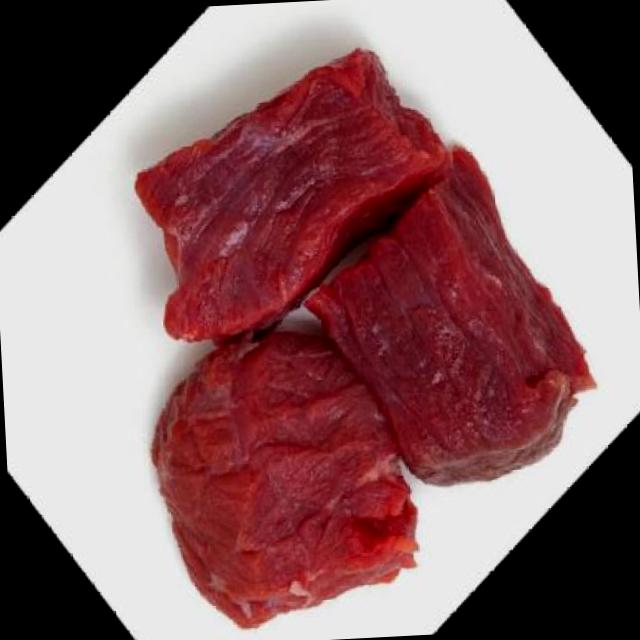beef: (298, 146, 610, 504), (124, 44, 462, 346), (140, 321, 425, 631)
